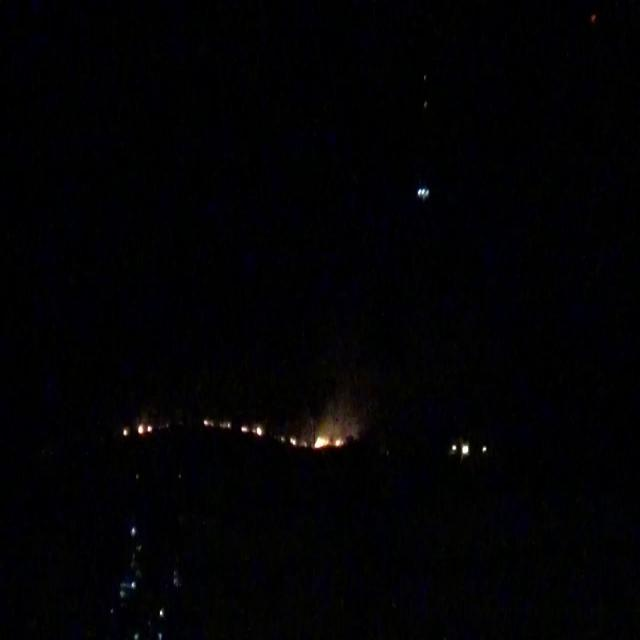Fire: (314, 434, 342, 452), (137, 419, 155, 437), (242, 425, 262, 435), (201, 418, 213, 428), (290, 436, 298, 446)
